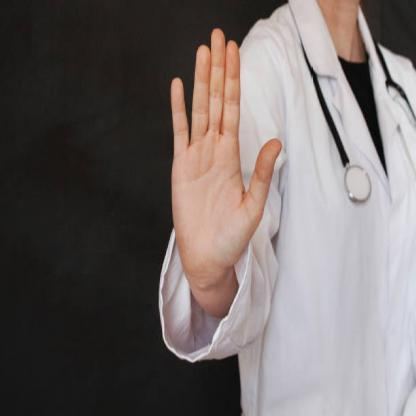stop: (166, 24, 283, 284)
